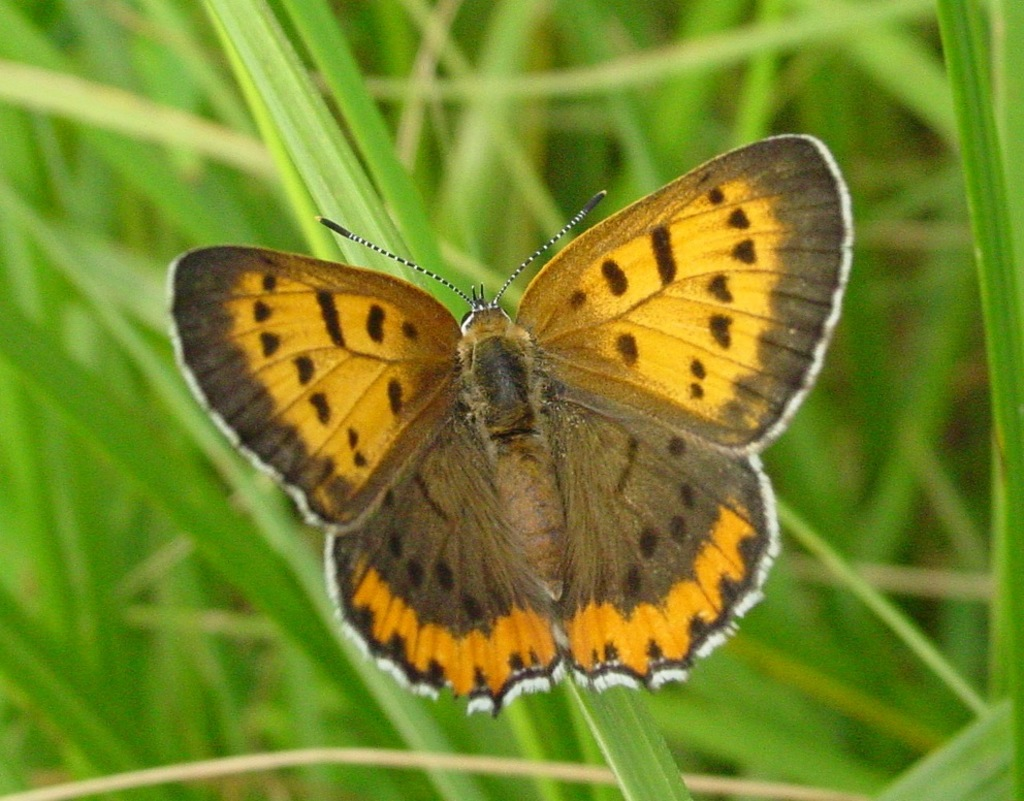Butterfly: (154, 147, 844, 721)
